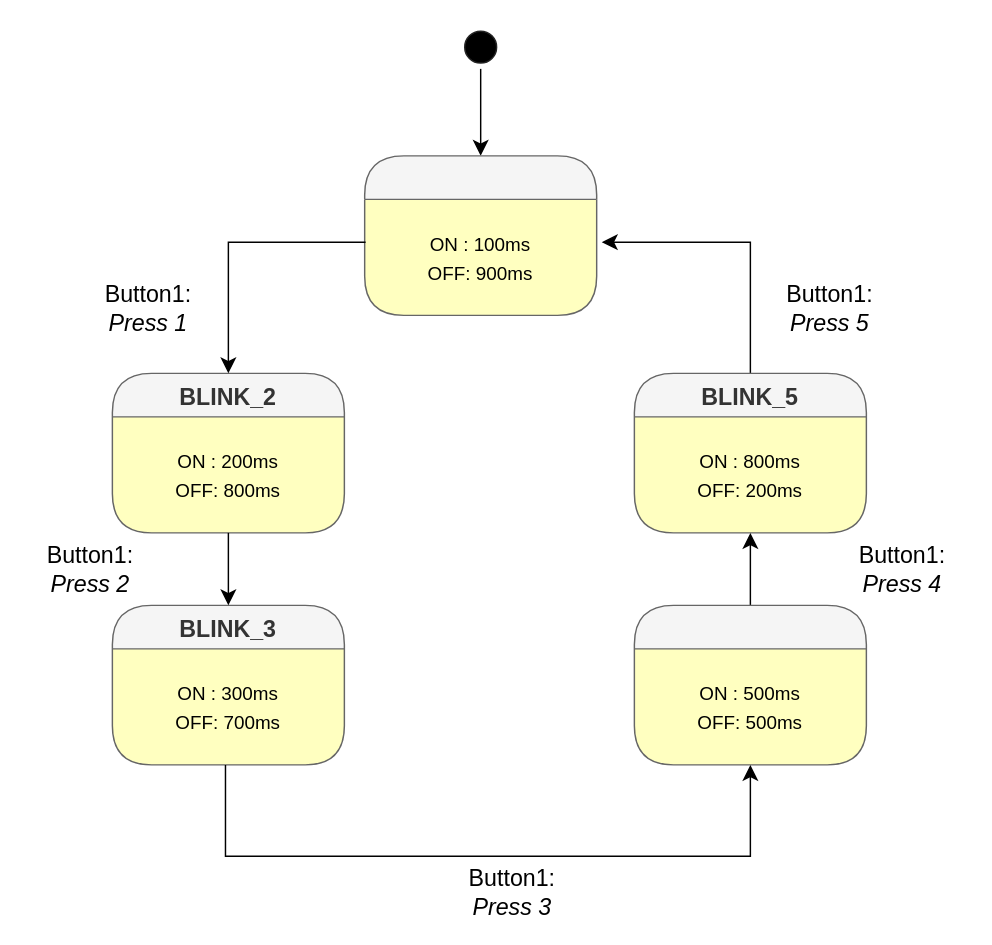
The diagram is 992 pixels wide and 945 high, and some of its shapes have lost their labels. Each missing label, with the box of its shape:
BLINK_1: (363, 154, 597, 315)
BLINK_4: (633, 604, 866, 765)
